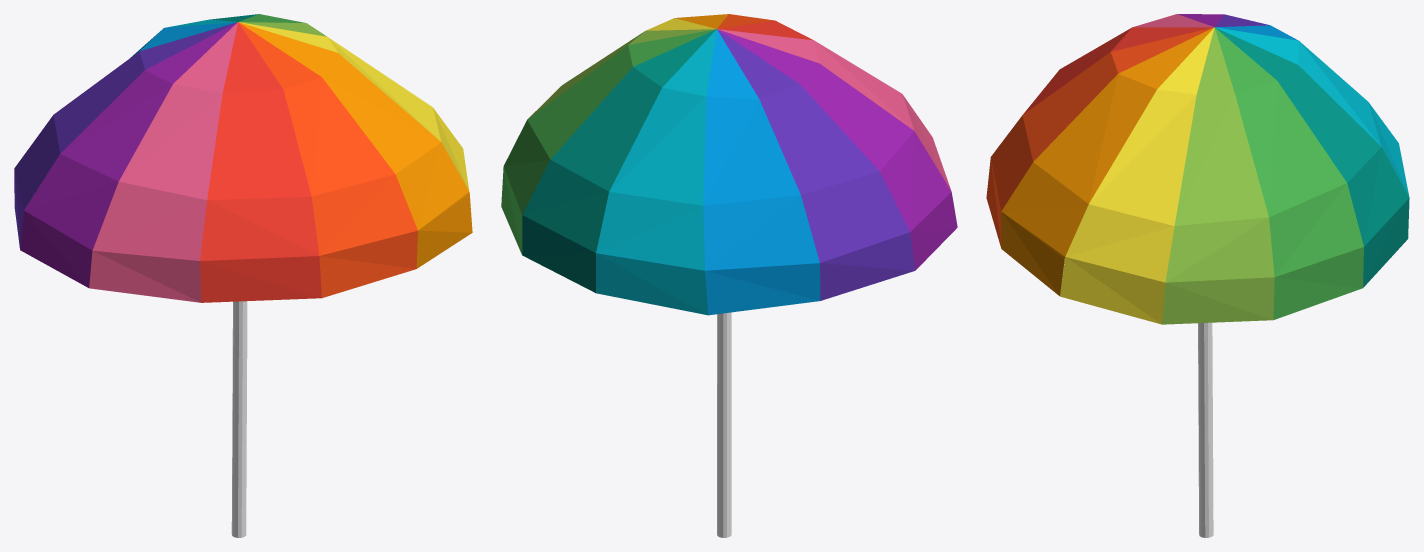
File: RainbowUmbrella.glb
3 views of the same model, side by side, from view 1: azimuth 30°, elevation 25°; view 2: azimuth 150°, elevation 25°; view 3: azimuth 270°, elevation 25° (orthographic).
Parts seen in each view (by area): view 1: group822346014, group1776344293; view 2: group822346014, group1776344293; view 3: group822346014, group1776344293.
Boxes of the visible parts, <box> form: group822346014: <box>14,14,472,302</box>; group1776344293: <box>231,301,247,537</box>; group822346014: <box>501,14,957,315</box>; group1776344293: <box>717,312,731,537</box>; group822346014: <box>986,14,1409,324</box>; group1776344293: <box>1198,322,1213,537</box>.
Bounding box in the file's own units: 0.5675 × 0.6732 × 0.5069.
